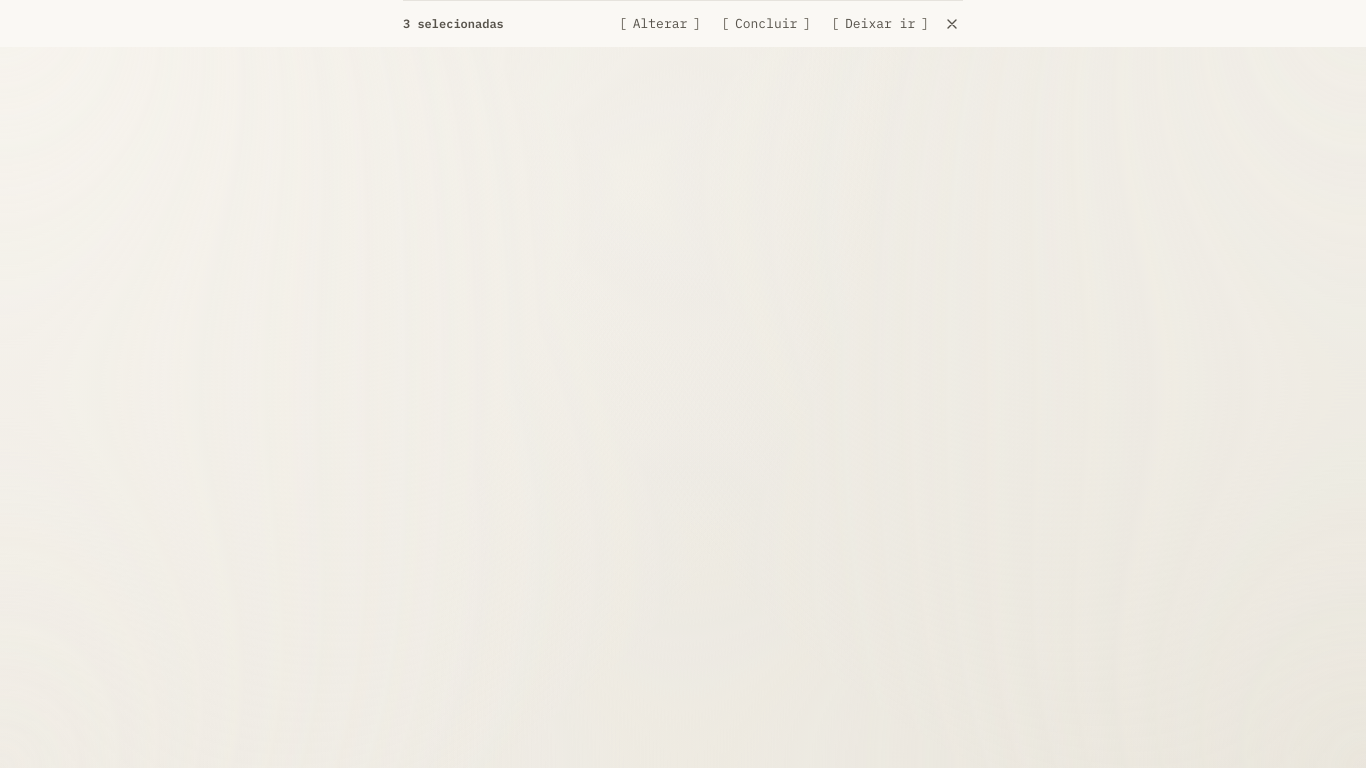
SelectionBar › speaks Portuguese, field by field
The image size is (1366, 768).
Expected: the element with class "task-bar" shows "3 selecionadas", [403, 16, 504, 31]
Expected: the button named "Desmarcar" is shown, [941, 13, 963, 35]
Click the button "Deixar ir" at (880, 24), box [823, 9, 937, 39]
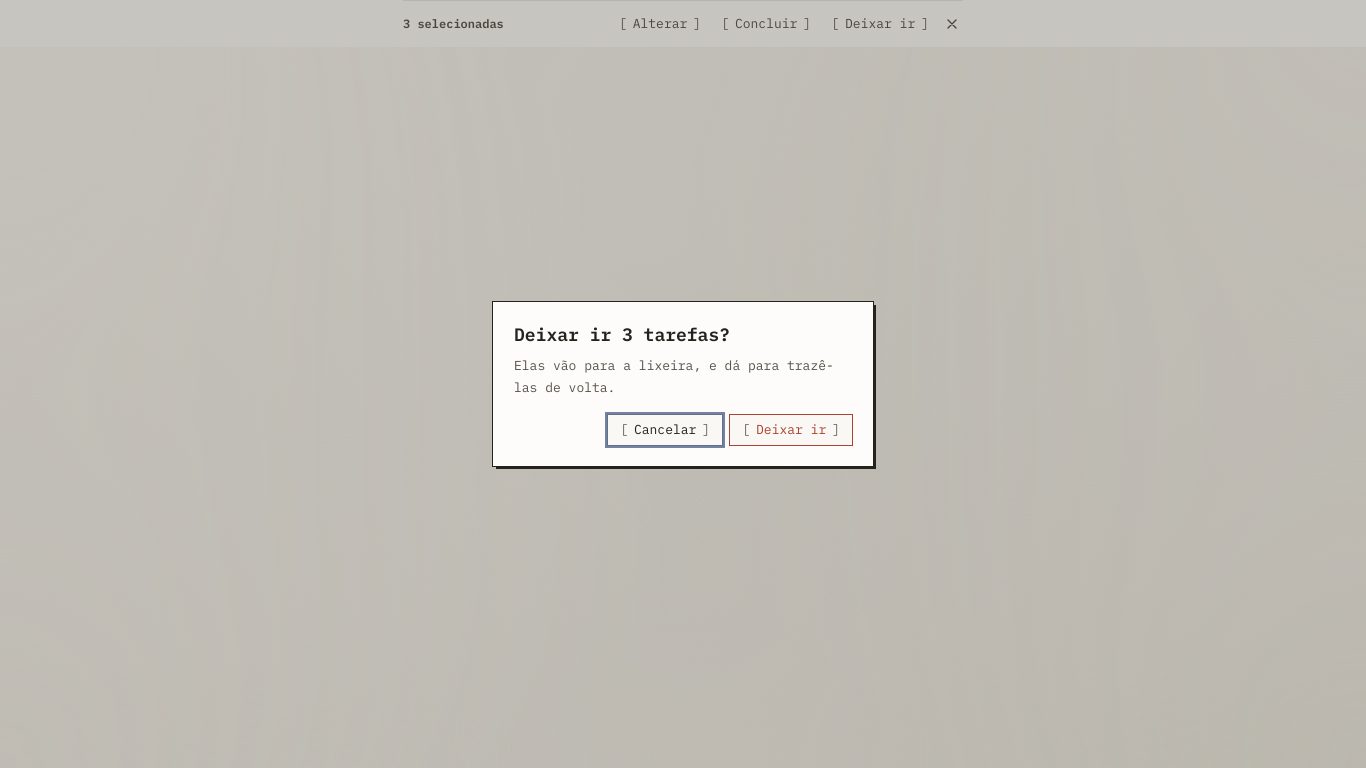
Expected: the dialog shows "Deixar ir 3 tarefas?", [514, 323, 730, 346]
